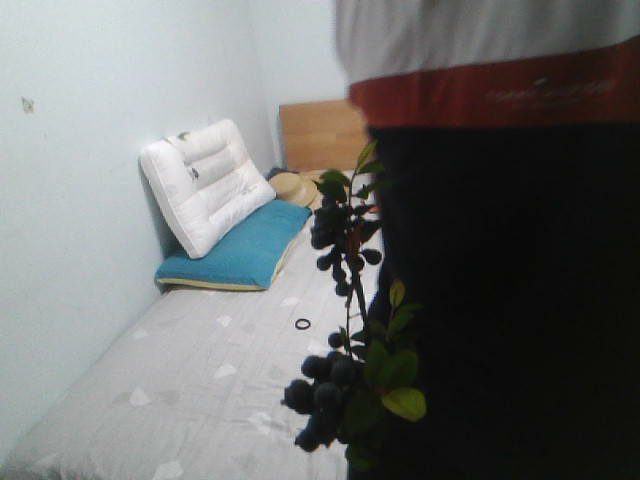blueberry: (311, 379, 342, 408)
